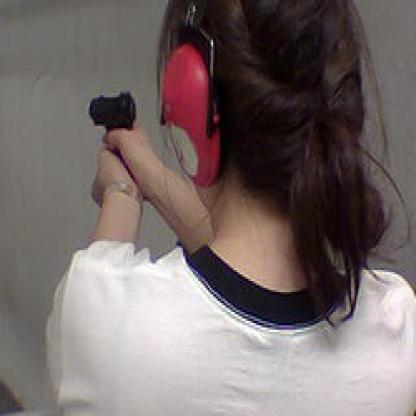gun: (86, 90, 139, 165)
